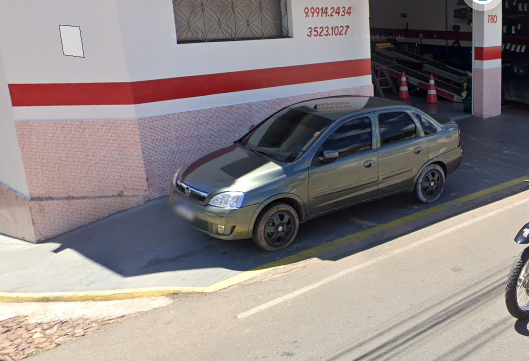car: (164, 90, 469, 259)
